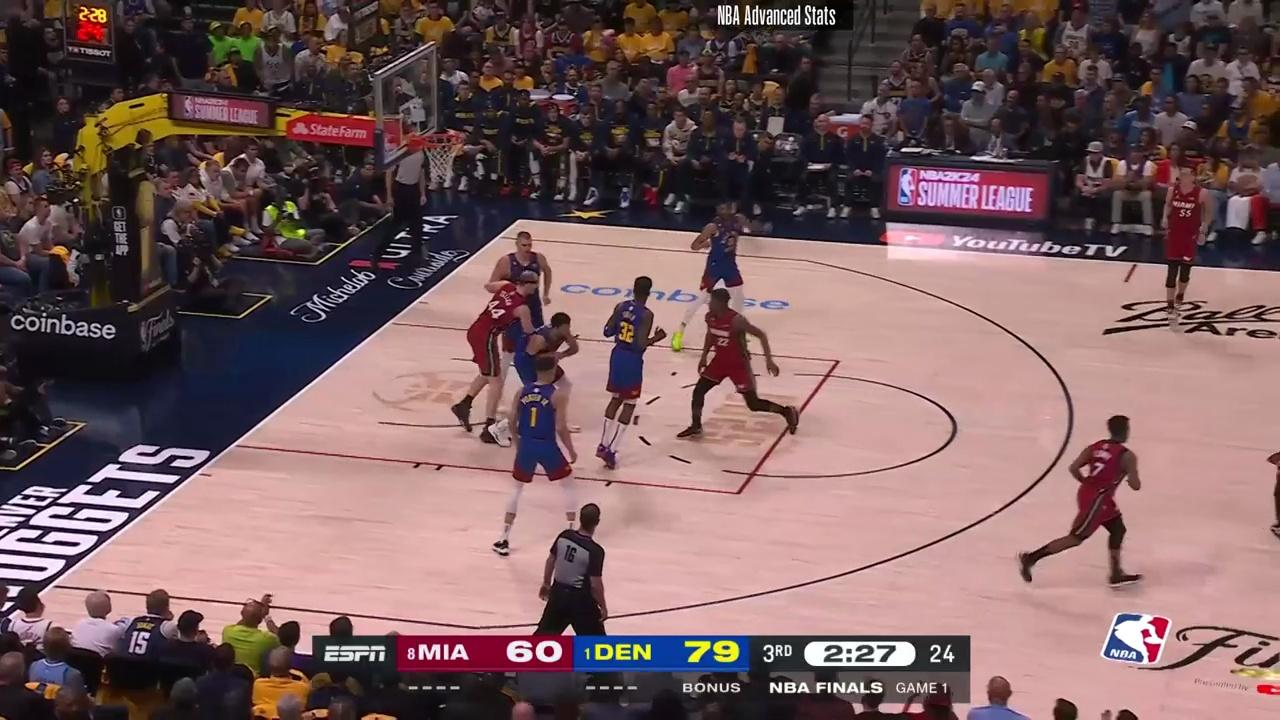Backboard: (382, 50, 437, 163)
Basket: (427, 129, 469, 174)
Person: (1015, 415, 1148, 598), (678, 286, 802, 453), (499, 348, 582, 558), (452, 267, 537, 442), (590, 289, 669, 470), (690, 199, 766, 324), (1151, 167, 1210, 316), (488, 225, 553, 324), (519, 306, 584, 391)
Referee: (538, 496, 612, 639), (367, 148, 433, 277)
Shot Clock: (65, 0, 128, 82)
